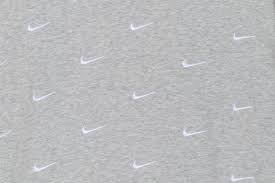nike: (71, 50, 117, 79), (76, 124, 124, 151), (25, 80, 69, 105), (226, 22, 262, 52), (127, 16, 168, 42), (177, 53, 216, 80), (21, 13, 56, 39), (178, 123, 213, 149), (128, 155, 169, 177), (230, 96, 261, 125), (32, 155, 62, 183), (123, 90, 162, 105), (226, 165, 255, 183)
